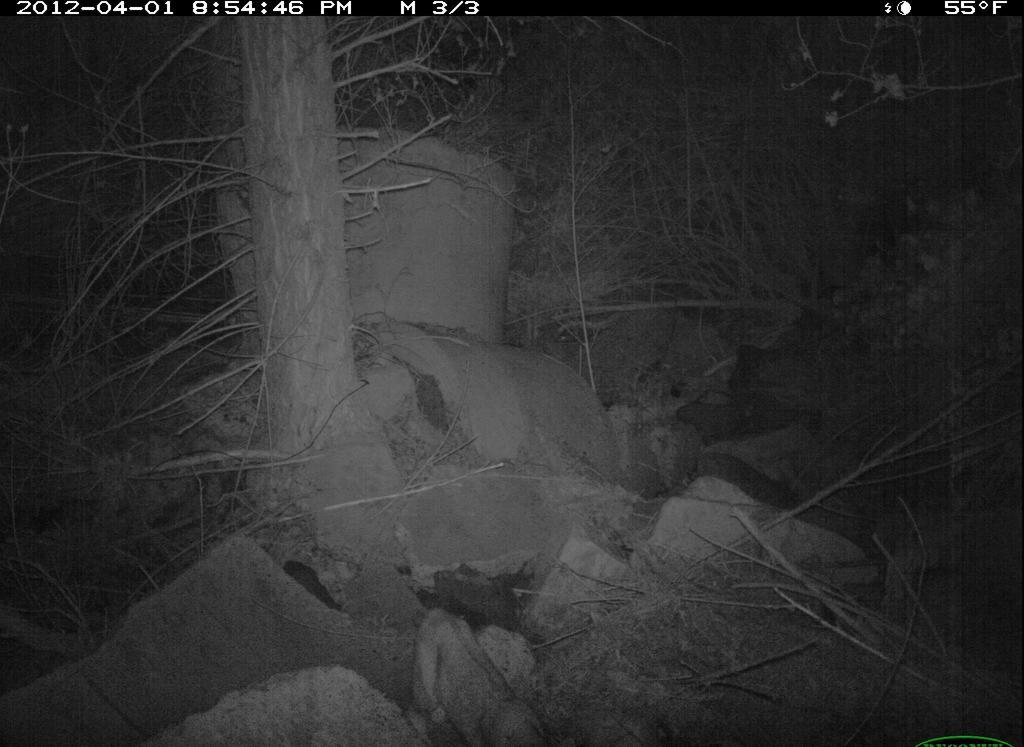bobcat: (385, 574, 555, 747)
